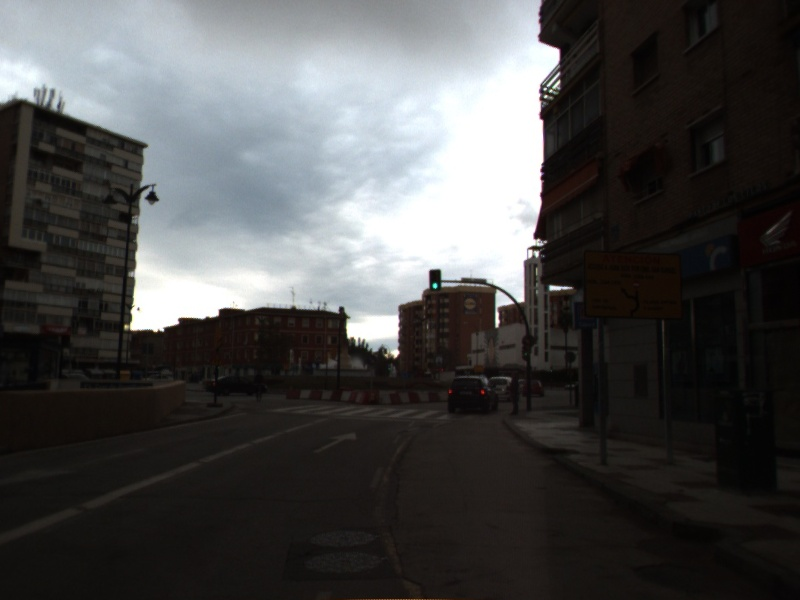STRAIGHT: (310, 429, 359, 455)
